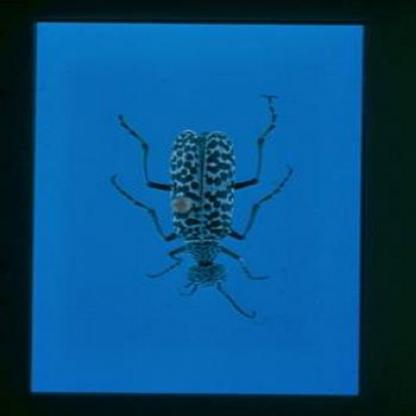beetle: (112, 95, 296, 323)
